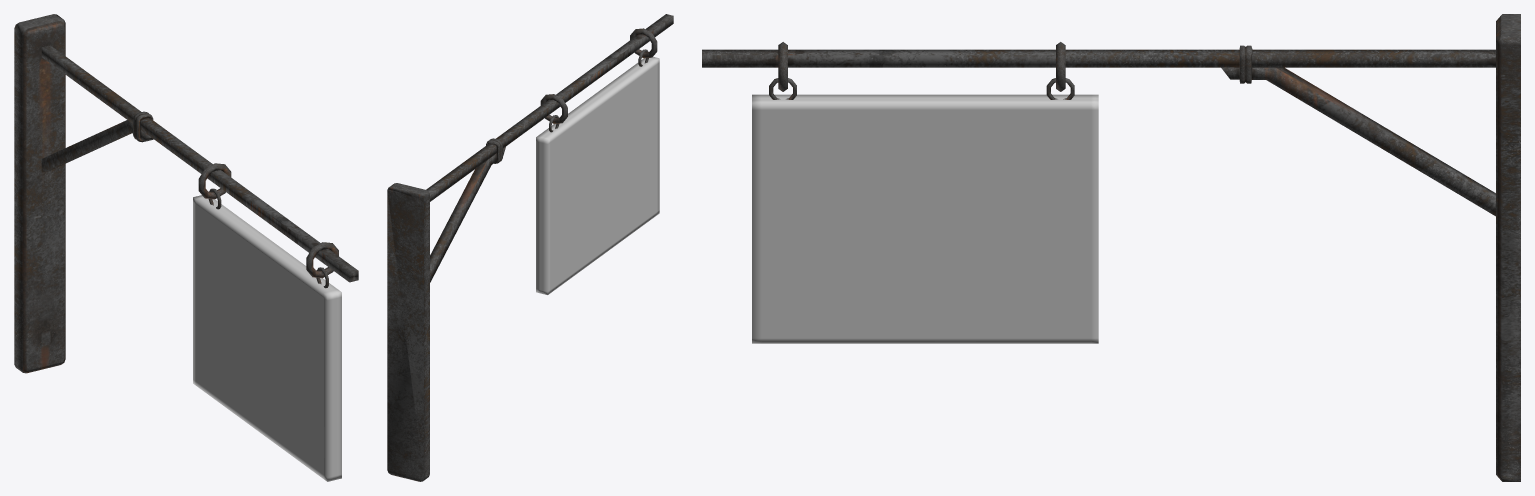
The model's file is SignStable_mdl.fbx.
3 renders of one model, left to right at view 1: azimuth 30°, elevation 25°; view 2: azimuth 150°, elevation 25°; view 3: azimuth 270°, elevation 25°, orthographic. The views are drawn at different scales.
Visible parts, largest first — view 1: SignStable_LOD0; view 2: SignStable_LOD0; view 3: SignStable_LOD0.
Part boxes in pixels (bbox=[...]): SignStable_LOD0: bbox=[14, 14, 358, 481]; SignStable_LOD0: bbox=[387, 14, 673, 481]; SignStable_LOD0: bbox=[702, 14, 1520, 481].
Size of the model in its own units: 16.19 by 121 by 202.
